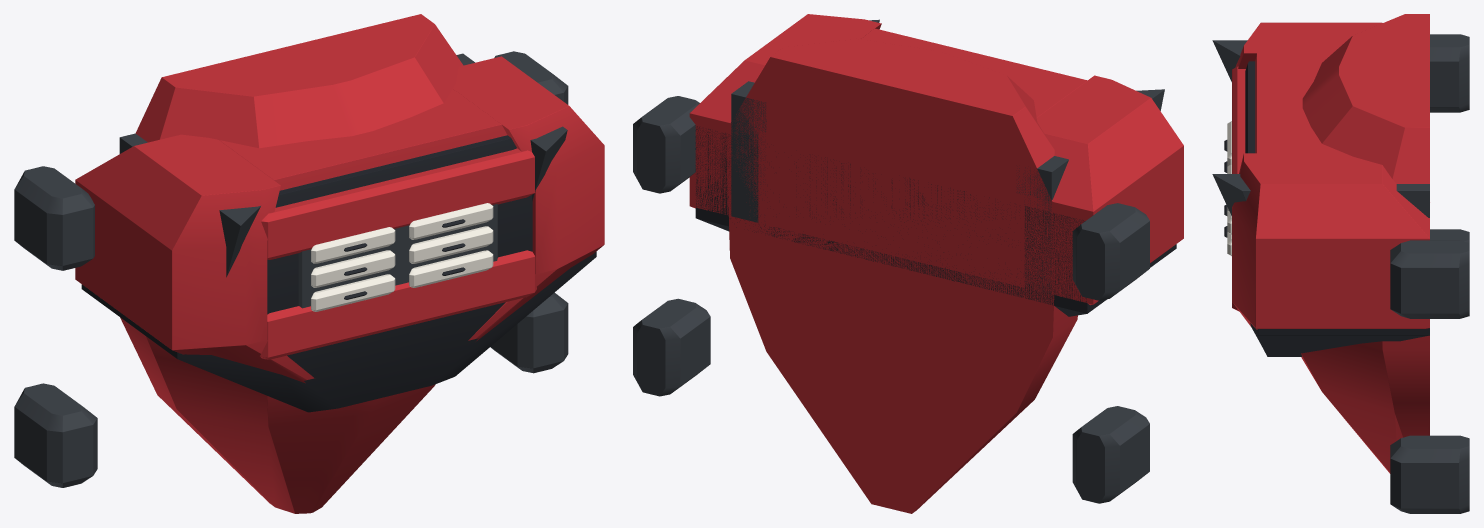
File: UpperArmFront_Set07_Salvo.fbx
3 renders of one model, left to right at view 1: azimuth 30°, elevation 25°; view 2: azimuth 150°, elevation 25°; view 3: azimuth 270°, elevation 25°, orthographic. The views are drawn at different scales.
Visible parts, largest first — view 1: UpperArmFront_Set07_Salvo; view 2: UpperArmFront_Set07_Salvo; view 3: UpperArmFront_Set07_Salvo.
Boxes of the visible parts, x1=… form: UpperArmFront_Set07_Salvo: x1=14, y1=14, x2=604, y2=513; UpperArmFront_Set07_Salvo: x1=633, y1=14, x2=1183, y2=513; UpperArmFront_Set07_Salvo: x1=1212, y1=14, x2=1469, y2=513.
Bounding box in the file's own units: 0.41 × 0.34 × 0.1949.
